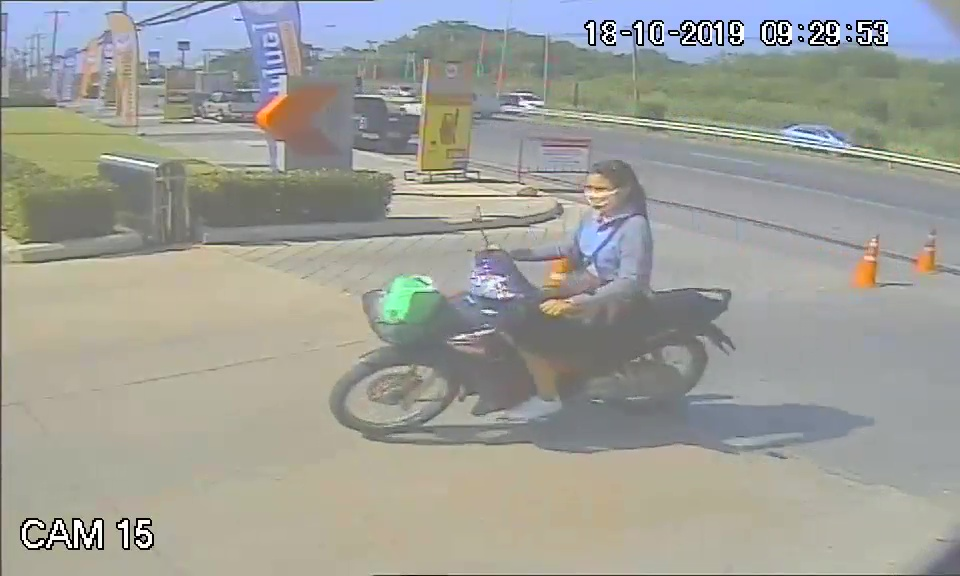motorcycle: (325, 246, 742, 436)
